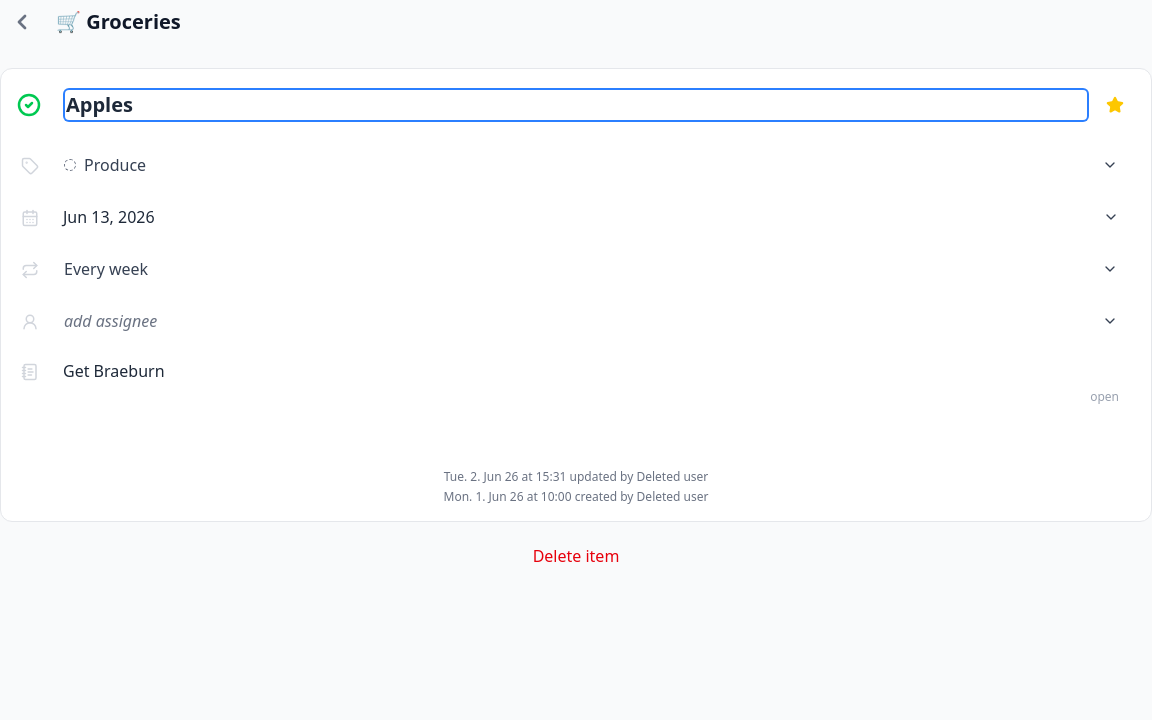
Test: item detail capabilities › keeps failed item deletion visible and prevents duplicate submissions while pending
This screenshot has width=1152, height=720.
Click the button "Delete item": (576, 556) [0,538,1151,574]
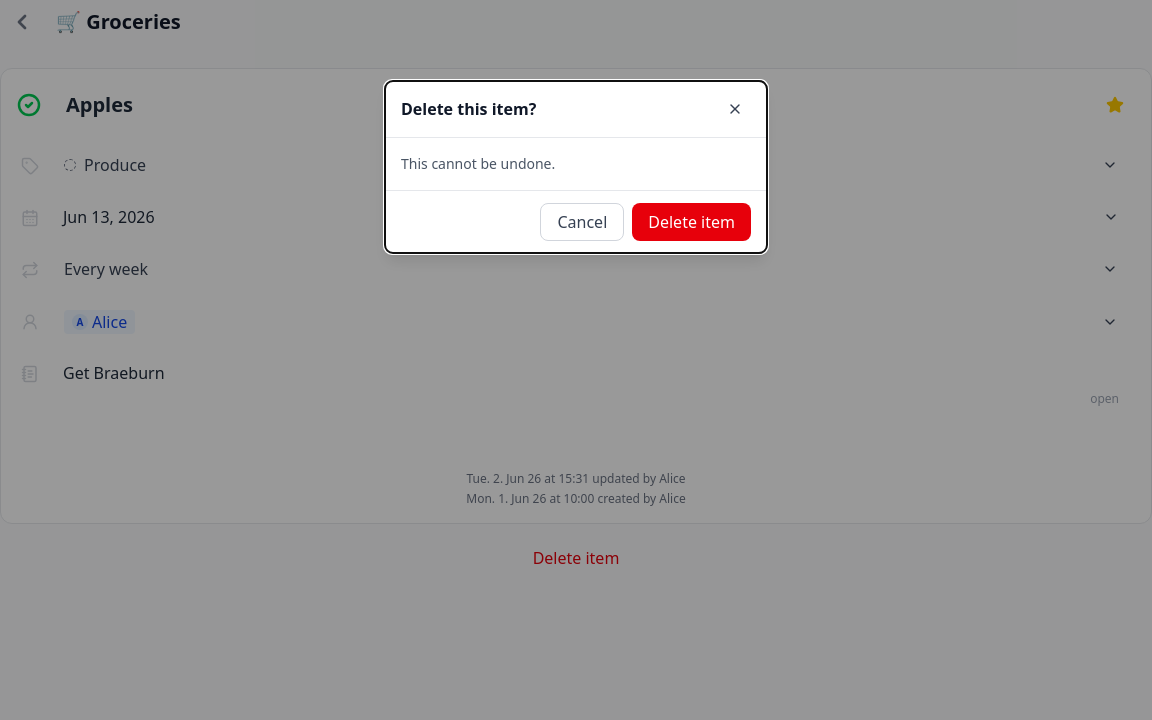
Click the button "Delete item": (692, 222) [632,203,751,241]
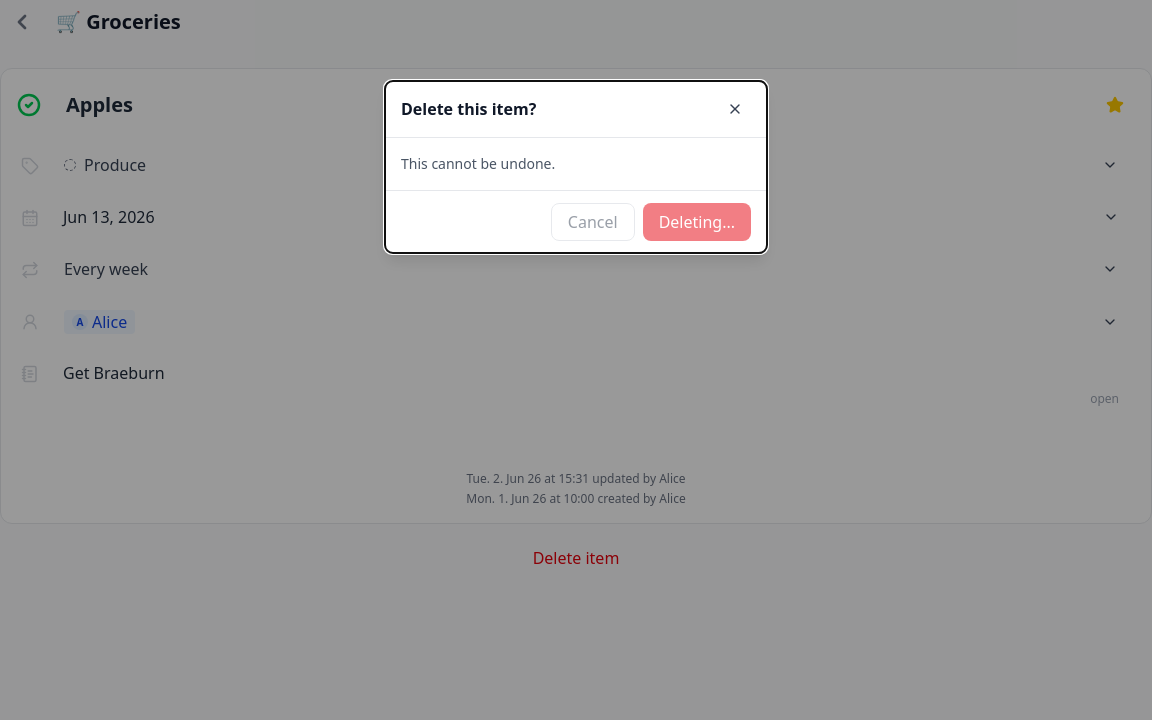
expect the button "Deleting..." is disabled: met
Click the button "Deleting...": (697, 222) [643,203,751,241]
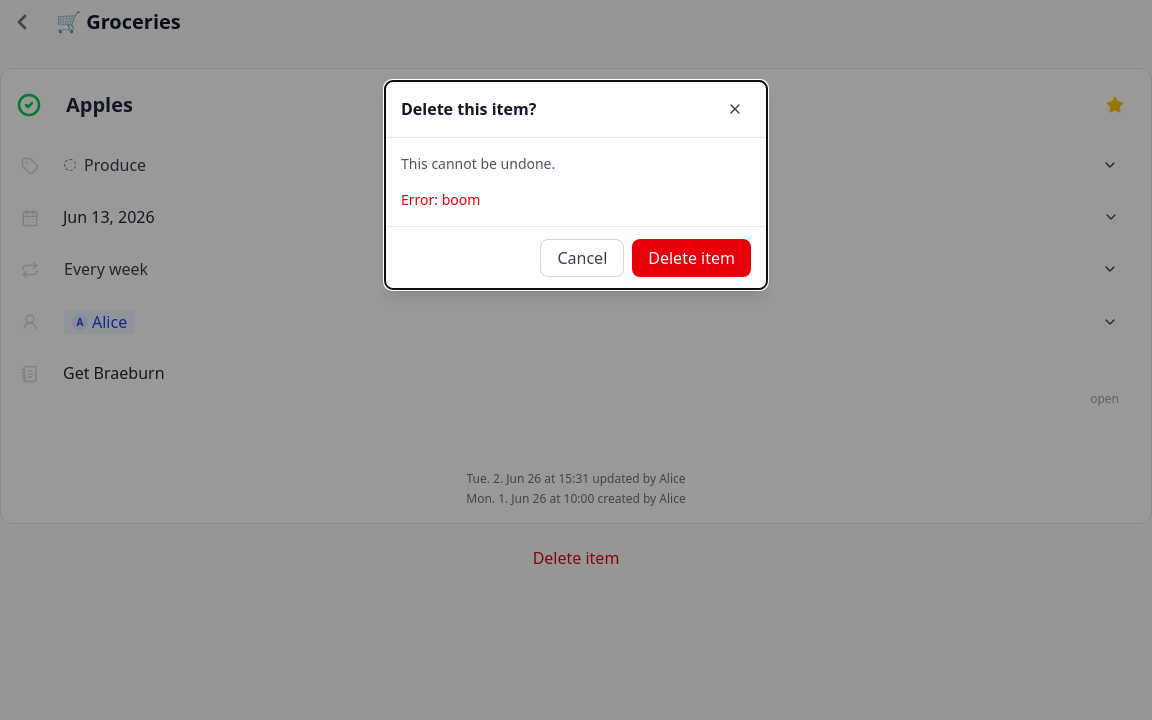
expect the dialog "Delete this item?" is shown: met, box [384,80,768,290]
expect the text "Error: boom" is shown: met, box [401,190,480,209]
expect the button "Delete item" is enabled: met, box [632,239,751,277]
